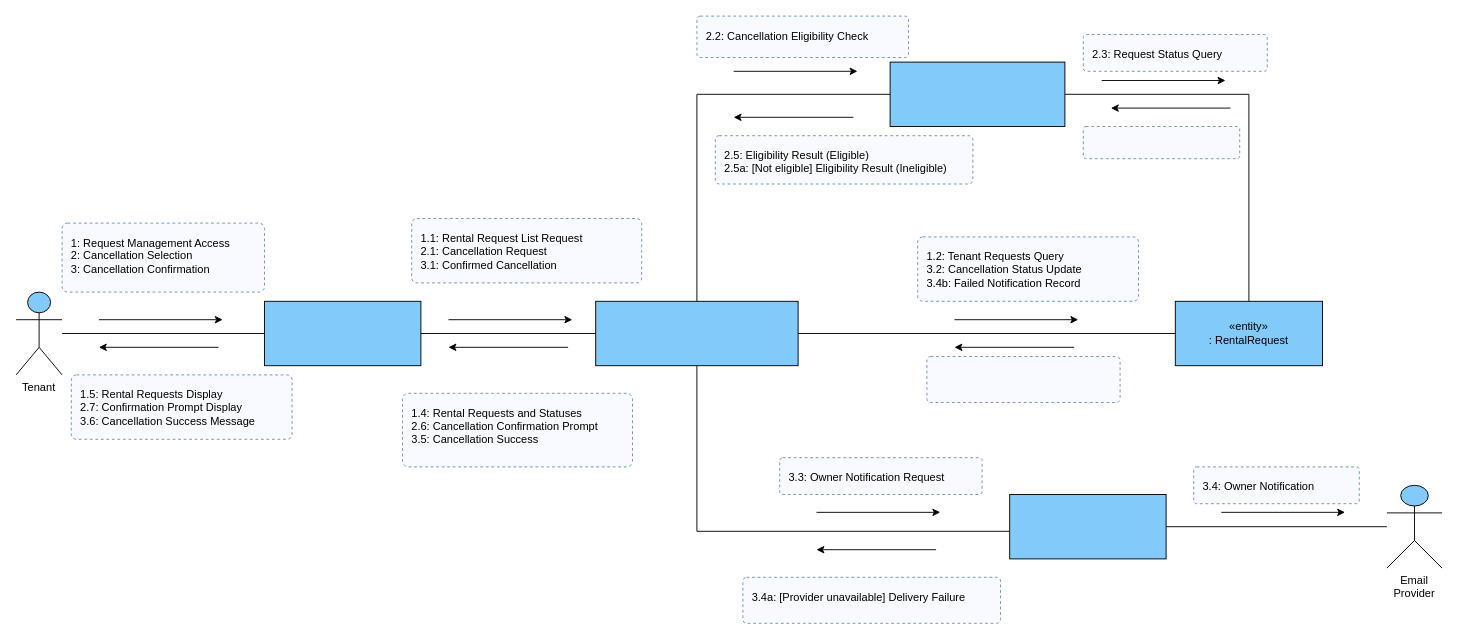
This 1458x639 diagram has some shape labels left out. Each missing label, with the centre of its shape:
"1.3: Tenant Requests Data 3.4a: Delivery Failure" belongs at (1023,379).
"2.4: Request Status Data" belongs at (1161,142).
"«business logic» : RentalRequestRules" belongs at (977,93).
"«coordinator» : RentalRequestCoordinator" belongs at (696,333).
"«proxy» : EmailProxy" belongs at (1087,526).
"«user interaction» : TenantUI" belongs at (342,333).
